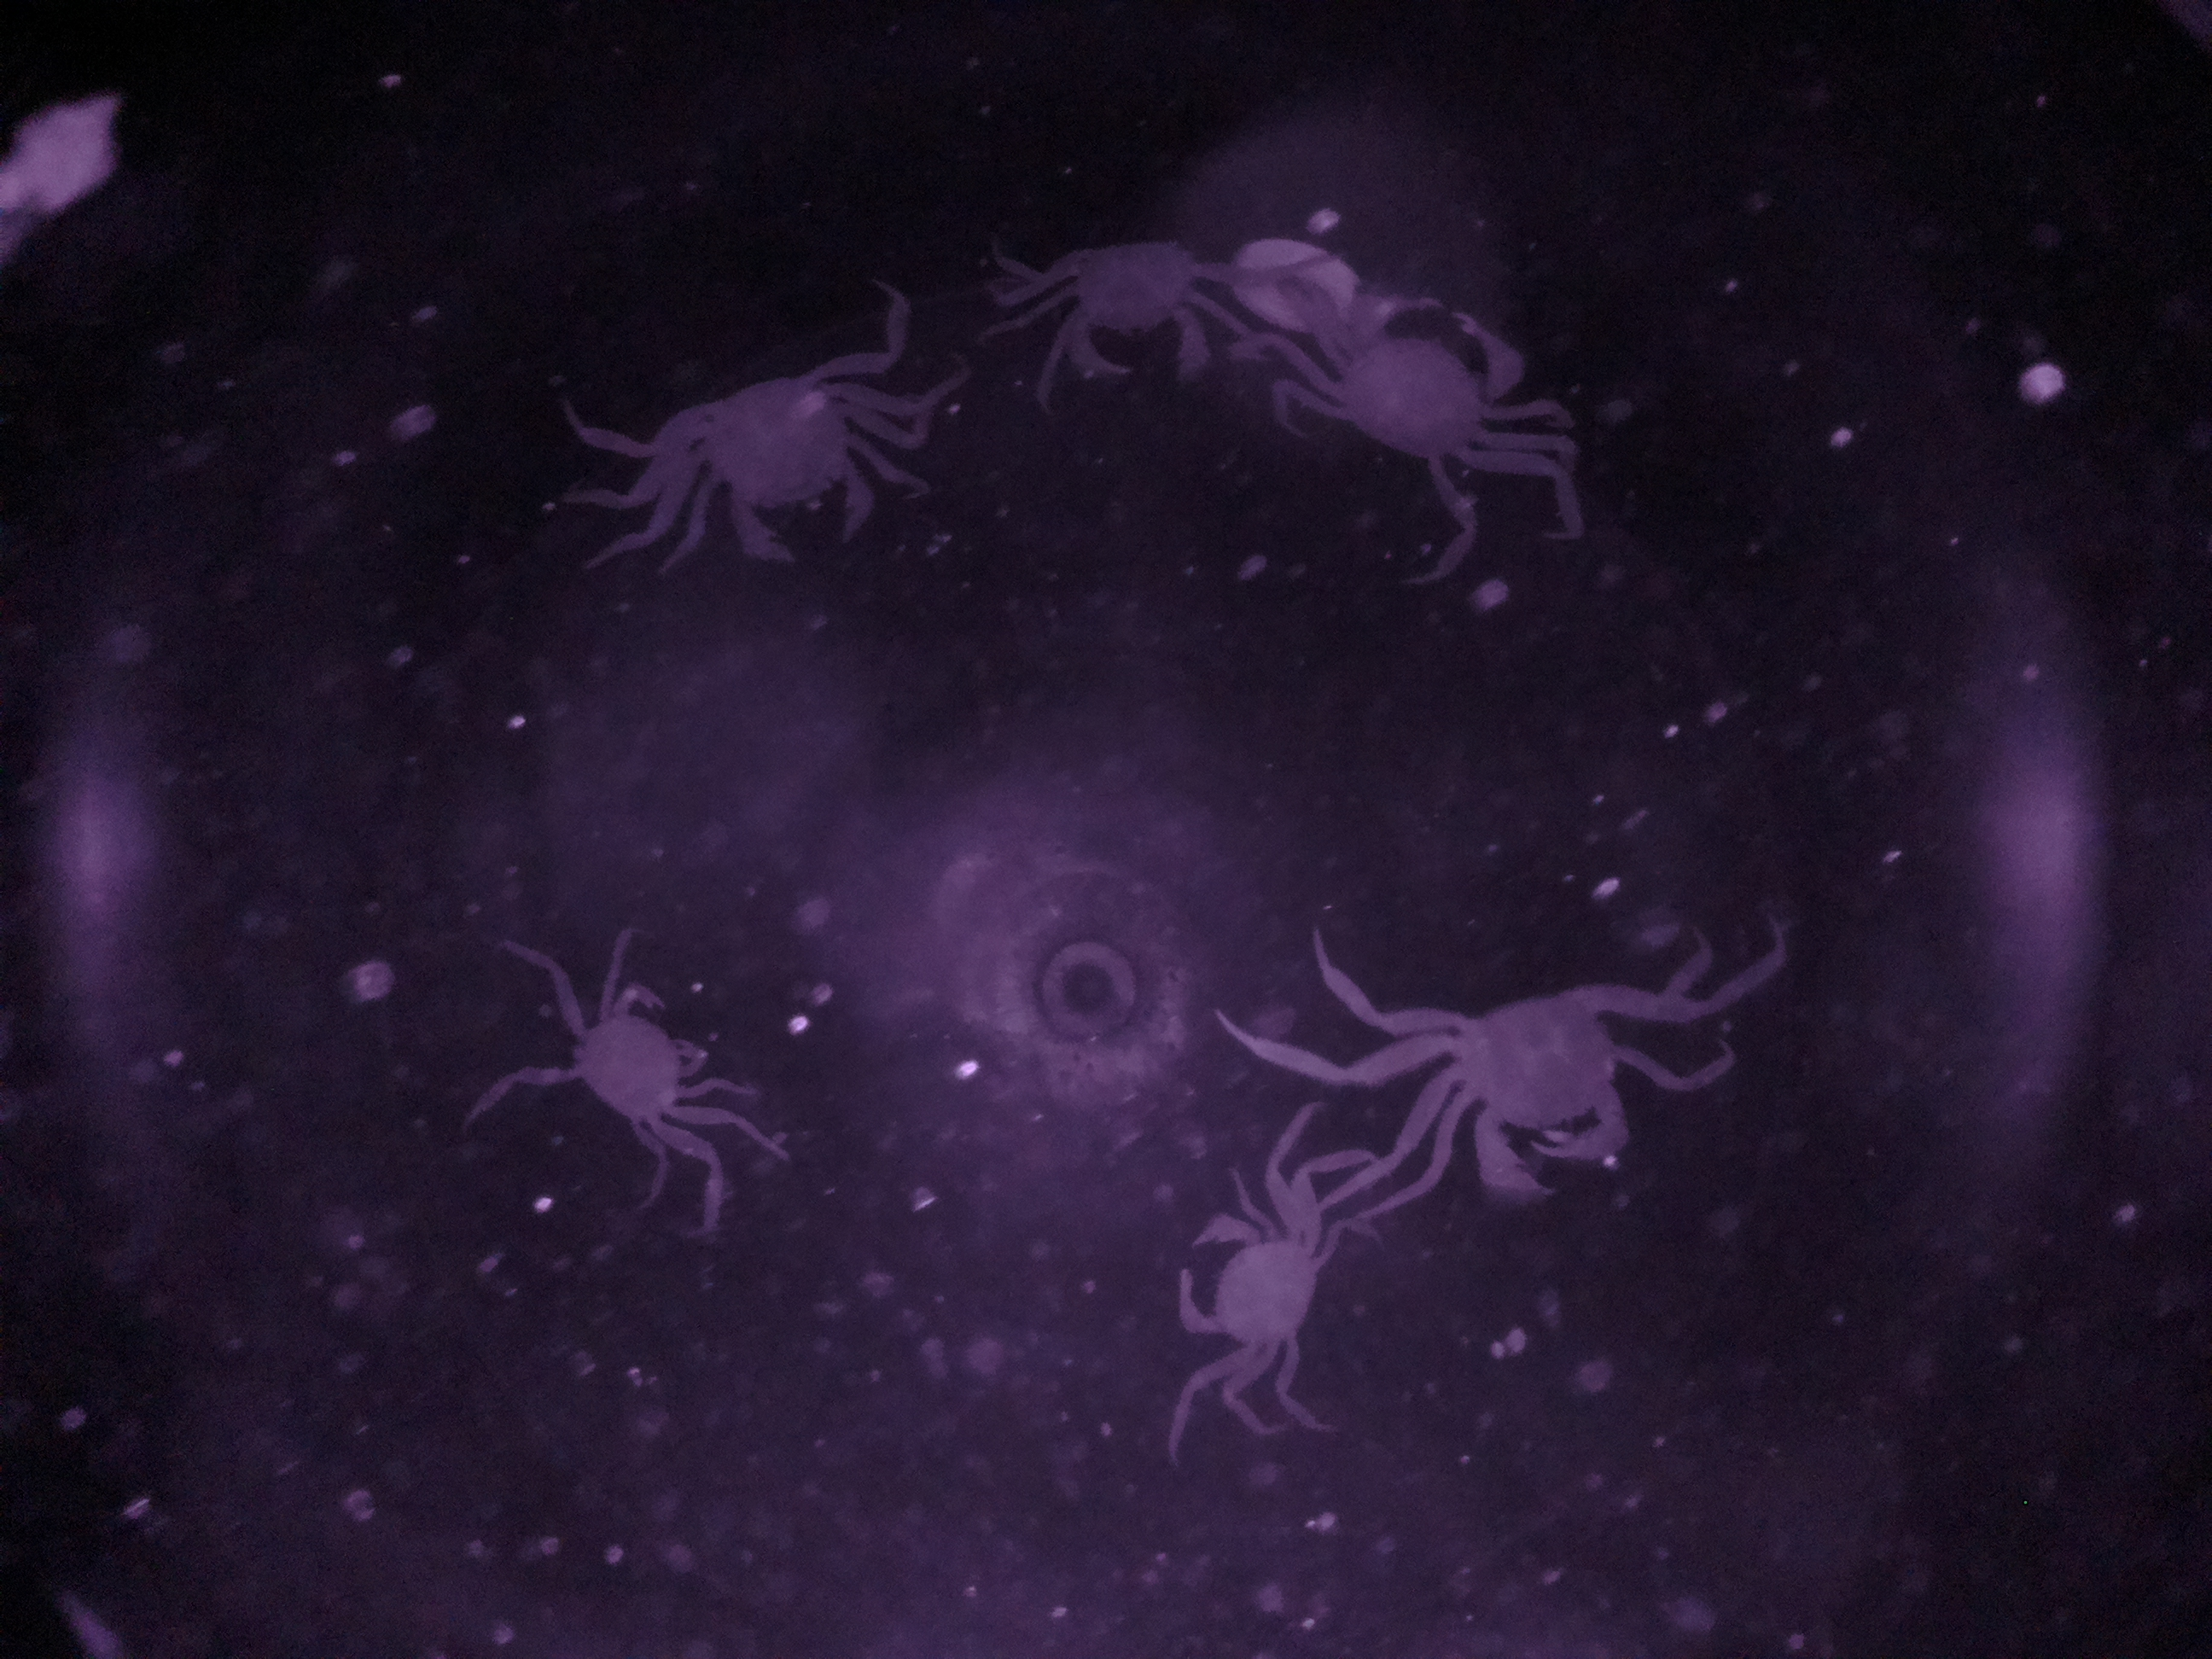Crab: (1395, 948, 1658, 1220), (644, 350, 911, 592), (1301, 282, 1547, 488), (1158, 1159, 1345, 1385), (1038, 225, 1233, 415), (542, 972, 728, 1161)
